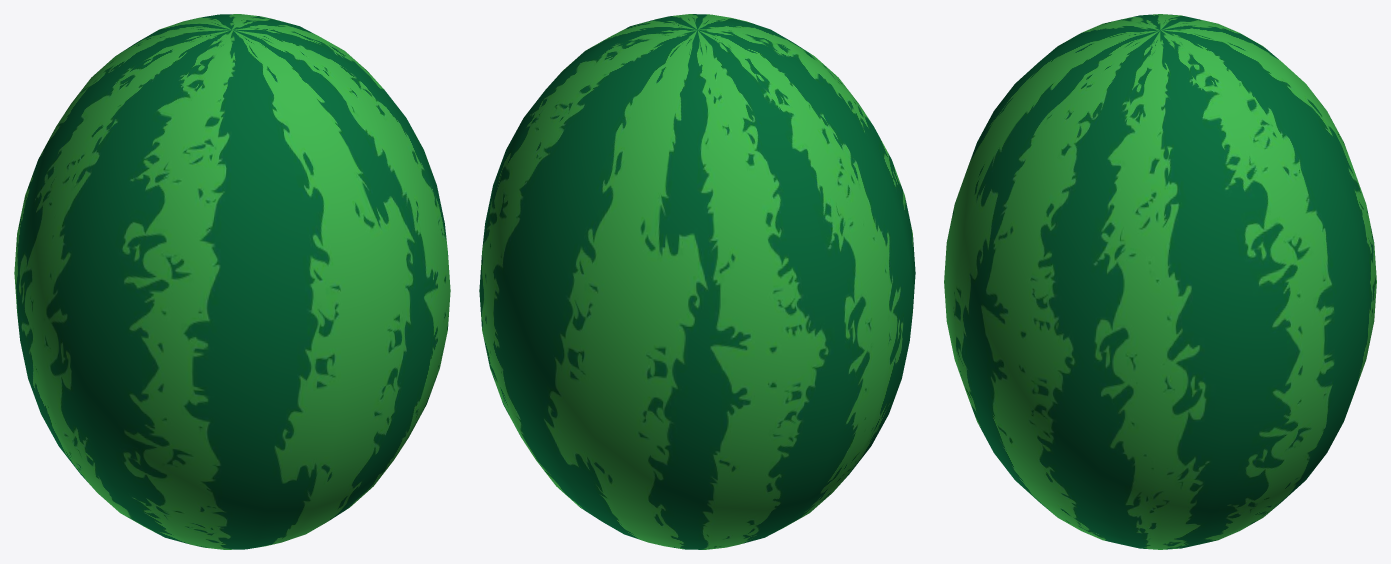
Rendered from big melon.fbx.
3 views of the same model, side by side, from view 1: azimuth 30°, elevation 25°; view 2: azimuth 150°, elevation 25°; view 3: azimuth 270°, elevation 25° (orthographic).
Visible parts, largest first — view 1: pSphere2; view 2: pSphere2; view 3: pSphere2.
Boxes of the visible parts, left/top/right/bottom form: pSphere2: left=14, top=14, right=450, bottom=549; pSphere2: left=479, top=14, right=915, bottom=549; pSphere2: left=944, top=14, right=1376, bottom=549.
Size of the model in its own units: 482 by 608 by 474.
Materials: 1 (1 with a texture image).
